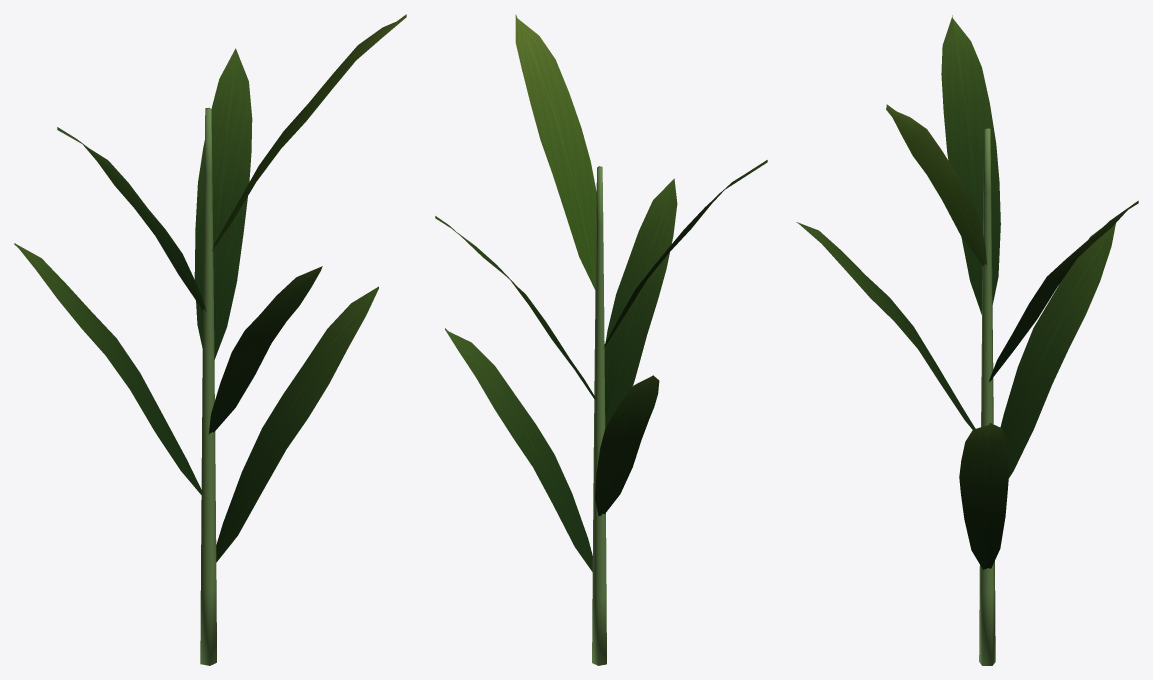
File: iris-05-lod.glb
3 views of the same model, side by side, from view 1: azimuth 30°, elevation 25°; view 2: azimuth 150°, elevation 25°; view 3: azimuth 270°, elevation 25° (orthographic). The views are drawn at different scales.
Parts seen in each view (by area): view 1: iris_stage_05_leaf_veins.009, iris_stage_05_stem_fibres.009, iris_stage_05_young_leaf.009; view 2: iris_stage_05_leaf_veins.009, iris_stage_05_young_leaf.009, iris_stage_05_stem_fibres.009; view 3: iris_stage_05_leaf_veins.009, iris_stage_05_stem_fibres.009, iris_stage_05_young_leaf.009.
Part boxes in pixels (x1,y1,x2,y2): iris_stage_05_leaf_veins.009: (14,48,378,562); iris_stage_05_stem_fibres.009: (200,107,216,665); iris_stage_05_young_leaf.009: (212,14,406,250); iris_stage_05_leaf_veins.009: (435,160,767,571); iris_stage_05_young_leaf.009: (515,14,596,289); iris_stage_05_stem_fibres.009: (592,166,606,665); iris_stage_05_leaf_veins.009: (796,15,1138,569); iris_stage_05_stem_fibres.009: (979,128,995,665); iris_stage_05_young_leaf.009: (886,104,986,266).
Size of the model in its own units: 0.1745 by 0.318 by 0.157.
3 materials, 2 textured.
